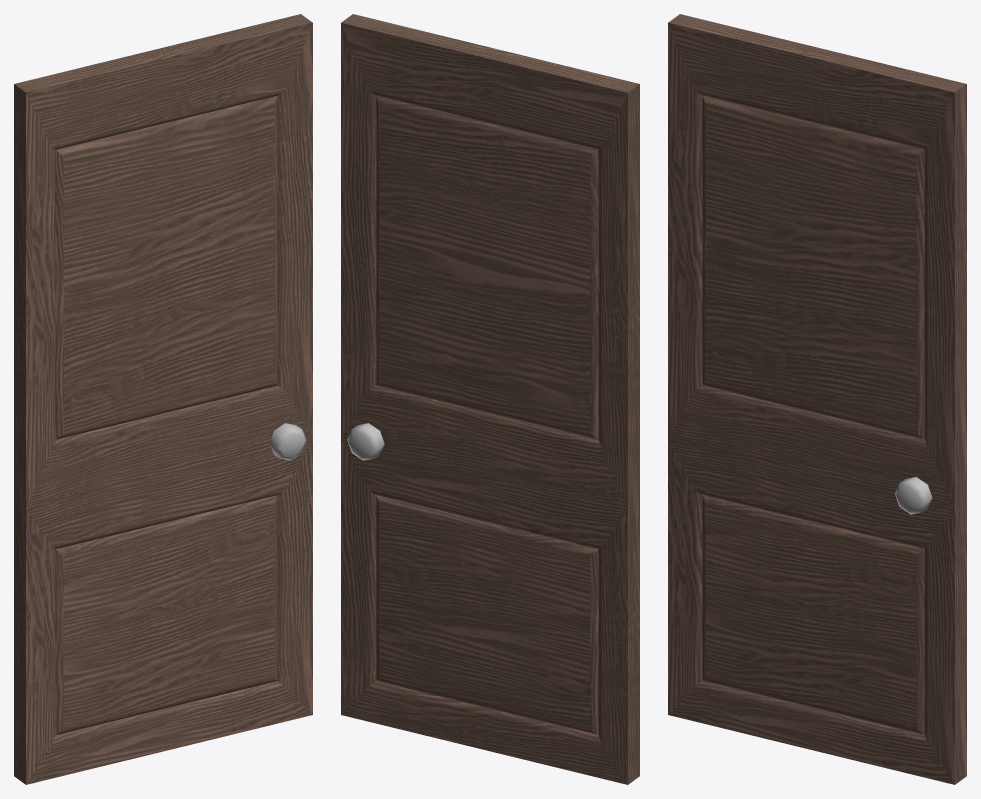
Rendered from door_012.fbx.
The picture shows the model from 3 angles, left to right: view 1: azimuth 30°, elevation 25°; view 2: azimuth 150°, elevation 25°; view 3: azimuth 330°, elevation 25°; orthographic projection.
Parts seen in each view (by area): view 1: door_012; view 2: door_012; view 3: door_012.
Part boxes in pixels (x1,y1,x2,y2): door_012: (14, 14, 312, 784); door_012: (341, 14, 639, 784); door_012: (668, 14, 966, 784).
Bounding box in the file's own units: 95.15 × 23.13 × 219.
